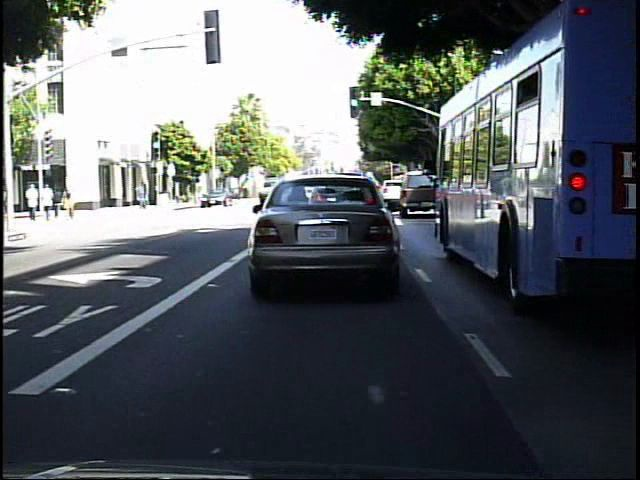person: (58, 182, 74, 221), (39, 182, 54, 223), (24, 181, 38, 223), (133, 179, 150, 213), (53, 187, 64, 221), (66, 183, 67, 222)
